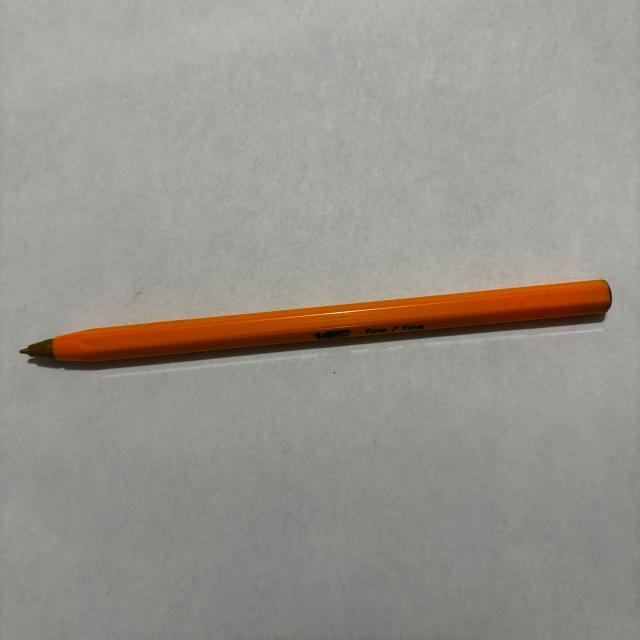pencil: (21, 281, 614, 373)
